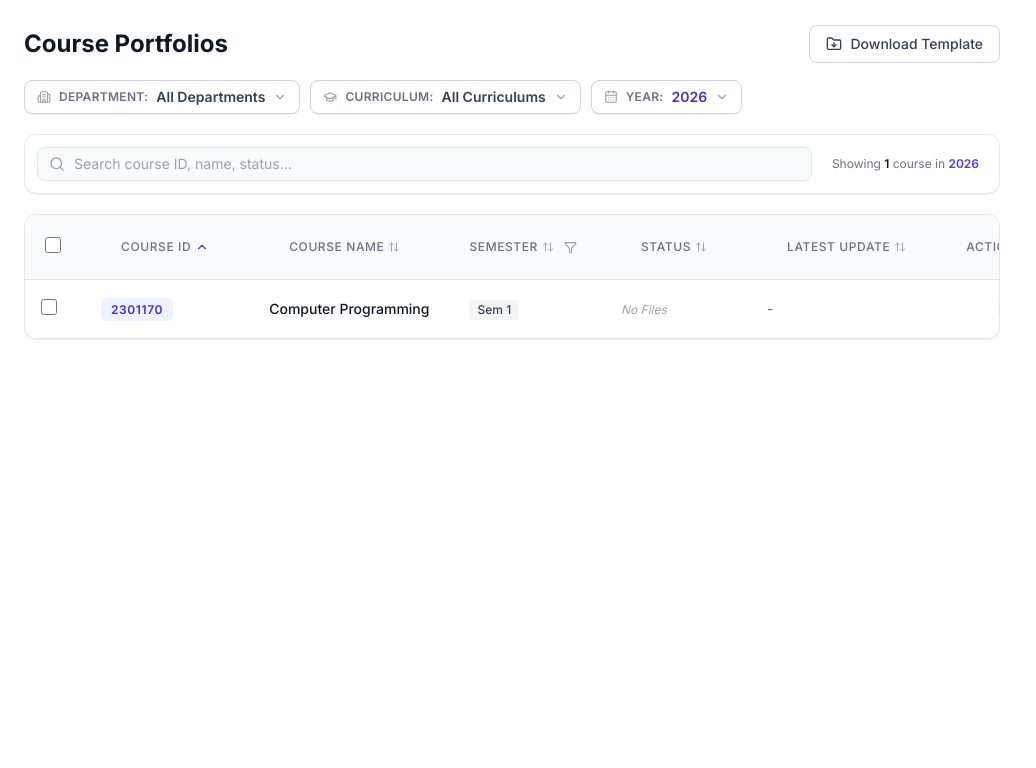
Test: PortfoliosPage › lets an instructor download the course portfolio template from the page header
Check: the text "Computer Programming" is shown, box [249,280,450,338]
Click the button "Download Template": (905, 44) [810,25,1000,63]
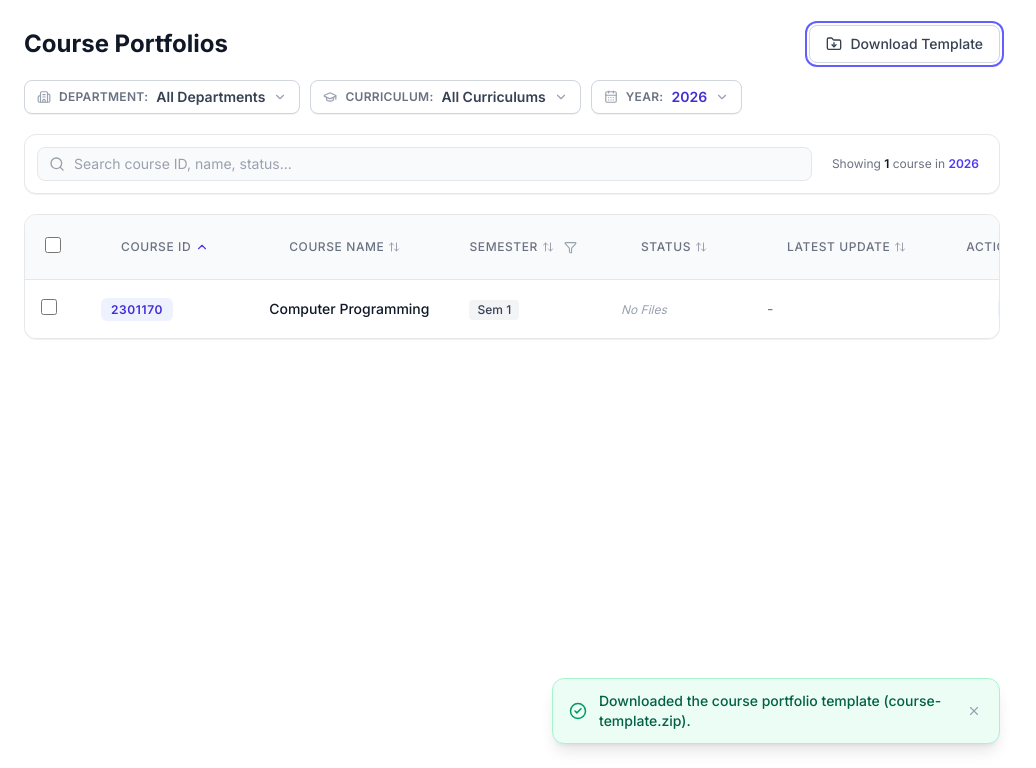
Check: the text "Downloaded the course portfolio template" is shown, box [599,692,941,729]
